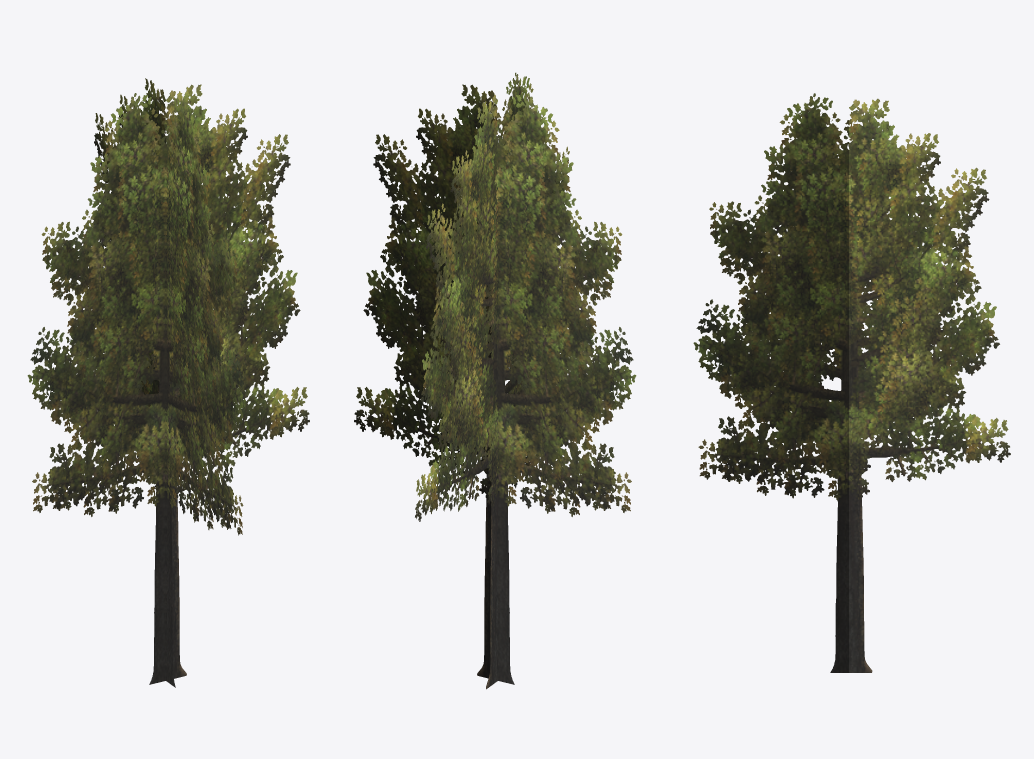
File: American_Chestnut_Fan_0.obj
The picture shows the model from 3 angles, left to right: view 1: azimuth 30°, elevation 25°; view 2: azimuth 150°, elevation 25°; view 3: azimuth 270°, elevation 25°; orthographic projection. The views are drawn at different scales.
Visible parts, largest first — view 1: CreateFan; view 2: CreateFan; view 3: CreateFan.
Part boxes in pixels (left/top/right/bottom): CreateFan: left=27, top=78, right=309, bottom=687; CreateFan: left=354, top=72, right=636, bottom=689; CreateFan: left=693, top=93, right=1010, bottom=672.
Size of the model in its own units: 13.2 by 25 by 13.2.
1 material, 1 textured.
